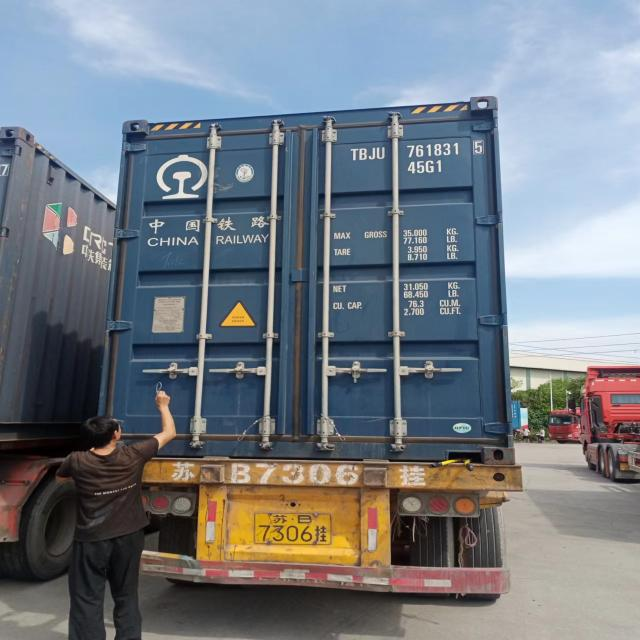seal: (349, 360, 362, 386)
